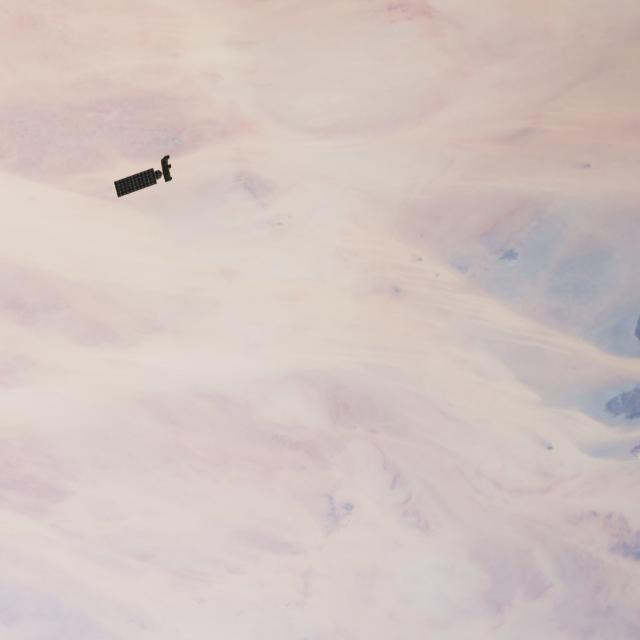satellite: (113, 133, 202, 205)
